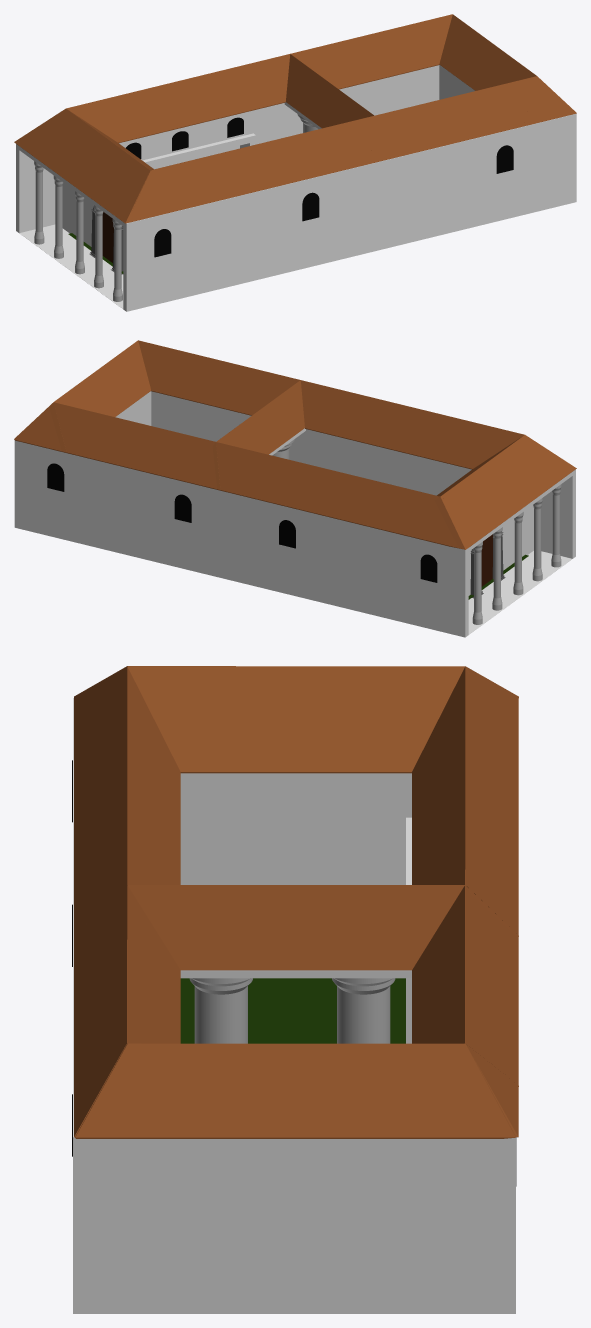
The model's file is Roman4.fbx.
3 renders of one model, top to bottom at view 1: azimuth 30°, elevation 25°; view 2: azimuth 150°, elevation 25°; view 3: azimuth 270°, elevation 25°, orthographic. The views are drawn at different scales.
Parts seen in each view (by area): view 1: Cube.001, Cube.003, Cube.004, Cube.002, Cube.005, Cube.006, Cube.007, Cylinder.001, Cylinder.004, Cylinder.002, Cylinder, Cylinder.003 (+4 smaller); view 2: Cube.001, Cube.004, Cube.003, Cube.002, Cube.005, Cube.006, Cylinder.003, Cylinder, Cylinder.002, Cylinder.001, Cylinder.004, Cube.011 (+4 smaller); view 3: Cube.001, Cube.005, Cube.003, Cube.004, Cube.002, Cube.006, Plane, Cylinder.005, Cylinder.006, Cube.007.
Boxes of the visible parts, x1,y1,x2,y2 form: Cube.001: (16, 65, 576, 311); Cube.003: (131, 76, 576, 222); Cube.004: (64, 14, 452, 142); Cube.002: (14, 108, 153, 223); Cube.005: (439, 14, 576, 125); Cube.006: (284, 54, 373, 163); Cube.007: (142, 133, 255, 166); Cylinder.001: (34, 161, 44, 244); Cylinder.004: (53, 175, 63, 258); Cylinder.002: (74, 191, 84, 274); Cylinder: (112, 219, 122, 301); Cylinder.003: (93, 205, 103, 288); Cube.001: (14, 391, 575, 637); Cube.004: (14, 402, 459, 548); Cube.003: (138, 340, 524, 469); Cube.002: (434, 435, 576, 549); Cube.005: (14, 340, 151, 452); Cube.006: (212, 380, 305, 489); Cylinder.003: (532, 498, 542, 581); Cylinder: (551, 484, 561, 567); Cylinder.002: (513, 512, 523, 595); Cylinder.001: (472, 541, 482, 624); Cylinder.004: (492, 527, 502, 610); Cube.011: (481, 534, 493, 586); Cube.001: (73, 698, 515, 1313); Cube.005: (74, 1043, 518, 1138); Cube.003: (74, 666, 180, 1137); Cube.004: (412, 666, 518, 1137); Cube.002: (74, 666, 518, 773); Cube.006: (74, 885, 518, 978); Plane: (180, 978, 405, 1043); Cylinder.005: (189, 978, 252, 1043); Cylinder.006: (332, 978, 395, 1043); Cube.007: (406, 817, 411, 1043).
Bounding box in the file's own units: 2165 × 561 × 927.
